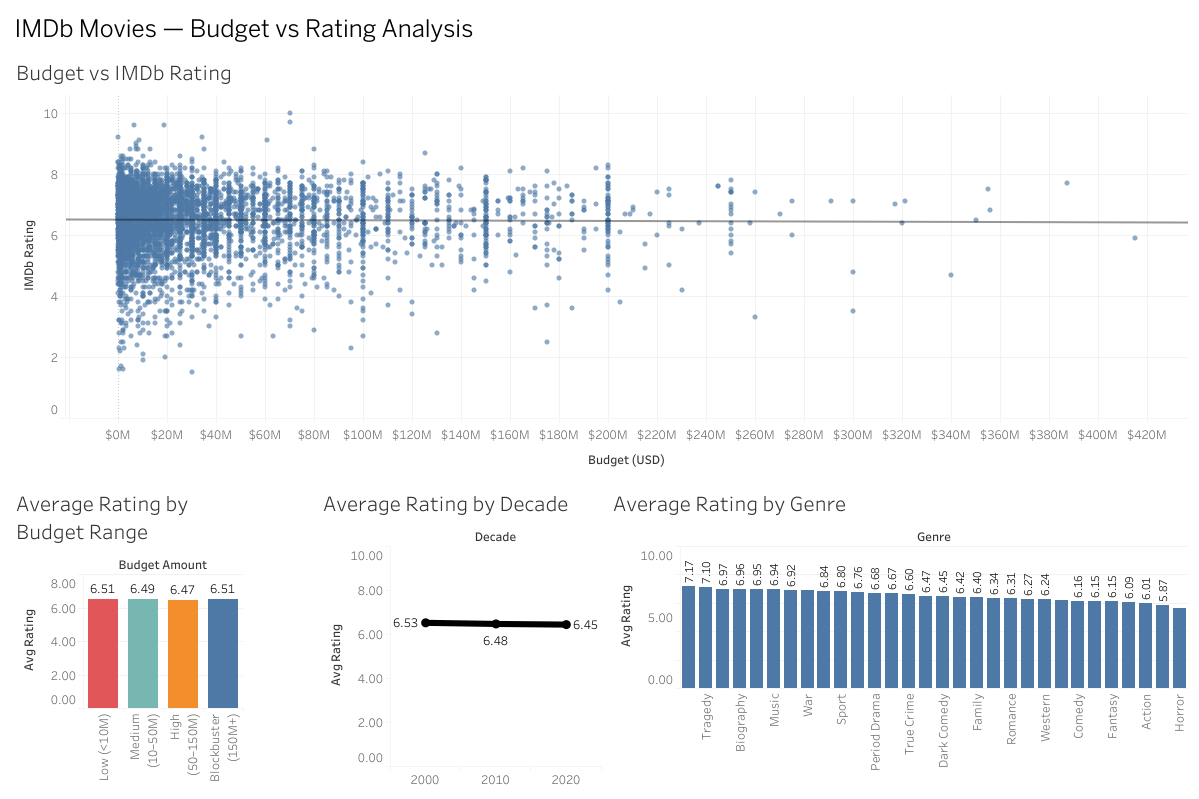

What the dashboard file says about the page in this screenshot:
{"tool":"tableau","page":{"name":"Dashboard 1","canvas":[1200,800],"ordinal":0},"visuals":[{"type":"title","box":[8,8,1184,39]},{"type":"worksheet","title":"Sheet 1","mark":"Circle","rows":["rating"],"cols":["budget_usd"],"box":[8,47,1184,432]},{"type":"worksheet","title":"Sheet 2","mark":"Bar","rows":["avg_rating"],"cols":["budget_amount"],"box":[8,479,307,313]},{"type":"worksheet","title":"Sheet 3","mark":"Line","rows":["avg_rating"],"cols":["decade"],"box":[315,479,290,313]},{"type":"worksheet","title":"Sheet 4","mark":"Bar","rows":["avg_rating"],"cols":["genre_clean"],"box":[605,479,587,313]}]}

Visuals, with their boxes in screenshot pixels (x1, y1, x2, y2), scaled from the page's 1200x800 canvas onto the 1199x799 screenshot:
title: box(8, 8, 1191, 47)
"Sheet 1" worksheet (Circle marks): box(8, 47, 1191, 478)
"Sheet 2" worksheet (Bar marks): box(8, 478, 315, 791)
"Sheet 3" worksheet (Line marks): box(315, 478, 604, 791)
"Sheet 4" worksheet (Bar marks): box(604, 478, 1191, 791)
